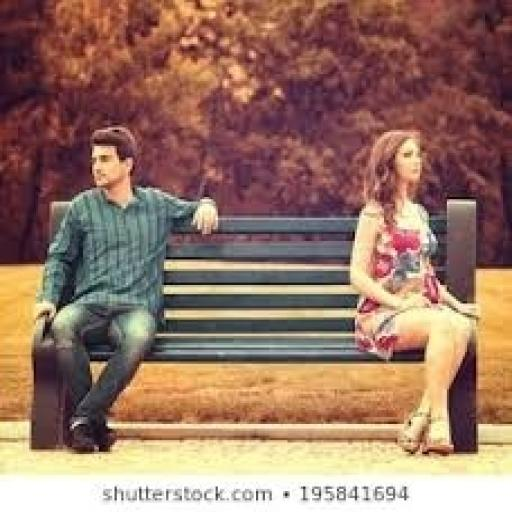sitting: (32, 123, 220, 452), (346, 125, 480, 457)
